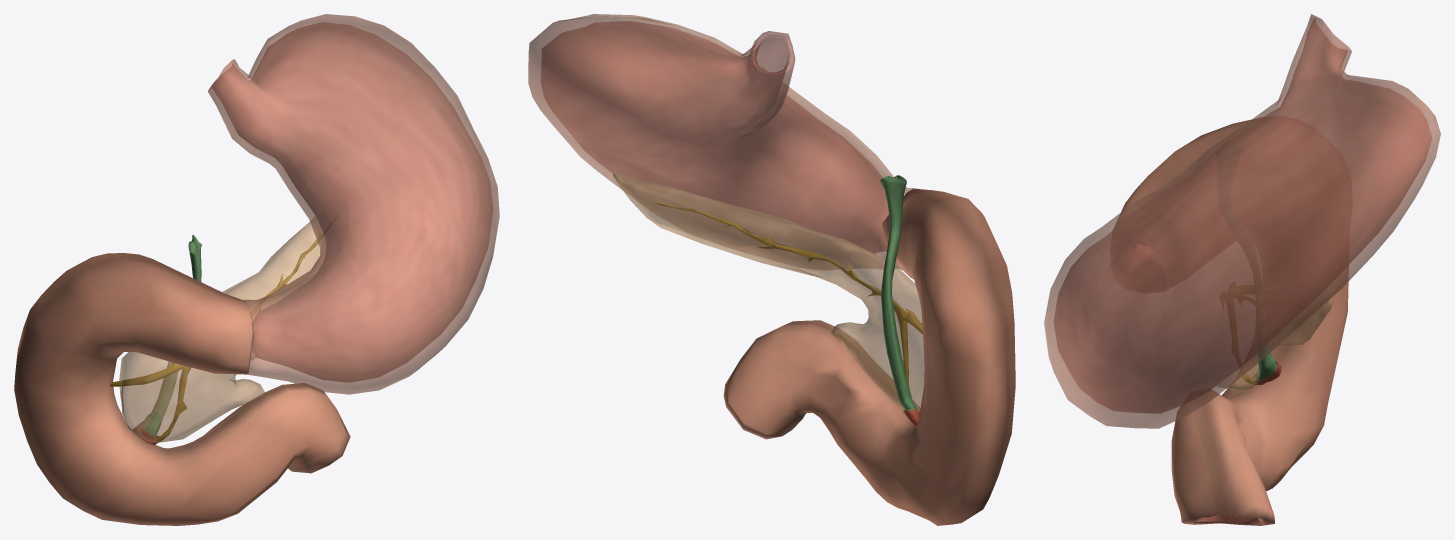
File: pancreas.glb
3 renders of one model, left to right at view 1: azimuth 30°, elevation 25°; view 2: azimuth 150°, elevation 25°; view 3: azimuth 270°, elevation 25°, orthographic. The views are drawn at different scales.
Parts seen in each view (by area): view 1: Stomach, Duodenum, Pancreas, Common_bile_duct, Main_pancreatic_duct, Accessory_pancreatic_duct; view 2: Stomach, Duodenum, Pancreas, Common_bile_duct, Main_pancreatic_duct; view 3: Stomach, Duodenum, Pancreas, Common_bile_duct.
Boxes of the visible parts, x1,y1,x2,y2 form: Stomach: (208, 14, 499, 394); Duodenum: (14, 253, 350, 525); Pancreas: (119, 216, 325, 442); Common_bile_duct: (142, 235, 201, 437); Main_pancreatic_duct: (155, 234, 323, 441); Accessory_pancreatic_duct: (110, 363, 183, 386); Stomach: (528, 14, 918, 270); Duodenum: (723, 188, 1015, 525); Pancreas: (613, 173, 924, 410); Common_bile_duct: (880, 175, 917, 409); Main_pancreatic_duct: (650, 200, 909, 387); Stomach: (1044, 14, 1440, 428); Duodenum: (1111, 117, 1348, 525); Pancreas: (1217, 292, 1333, 390); Common_bile_duct: (1256, 346, 1277, 380).
Size of the model in its own units: 0.1729 by 0.1582 by 0.107.
10 materials, 10 textured.
